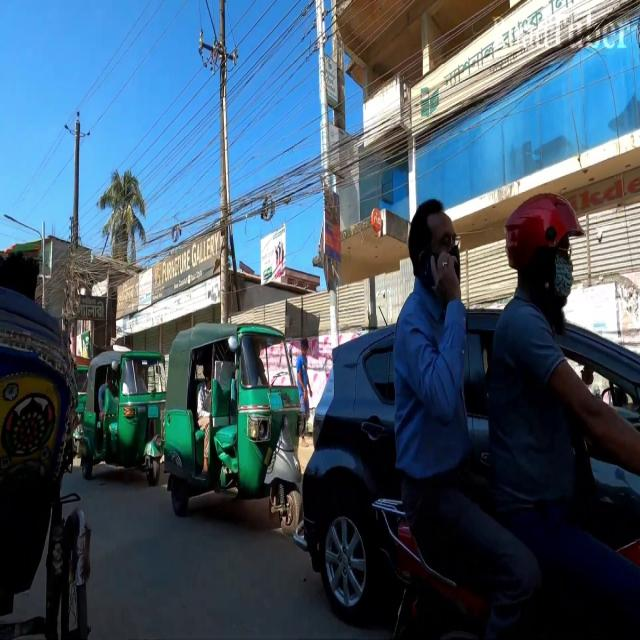black: (302, 323, 395, 638)
